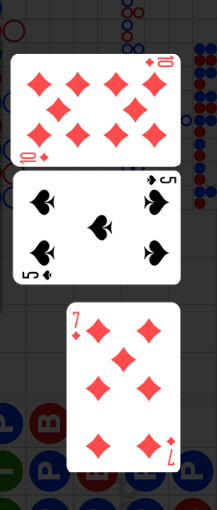10D: (19, 151, 50, 164)
5S: (21, 269, 54, 282)
7D: (164, 435, 177, 467)
